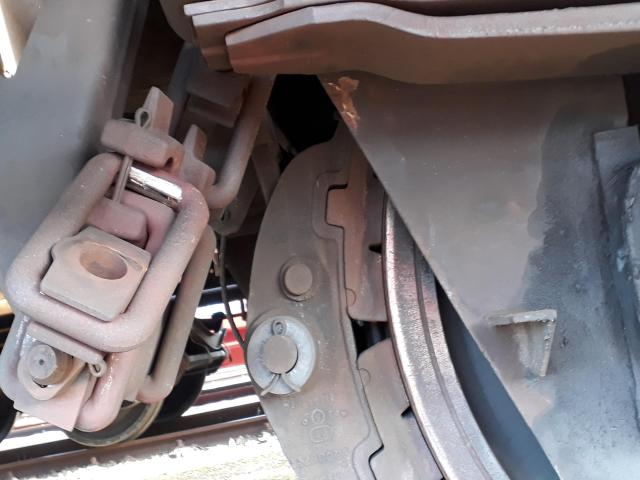blattfederww: (157, 4, 640, 66)
